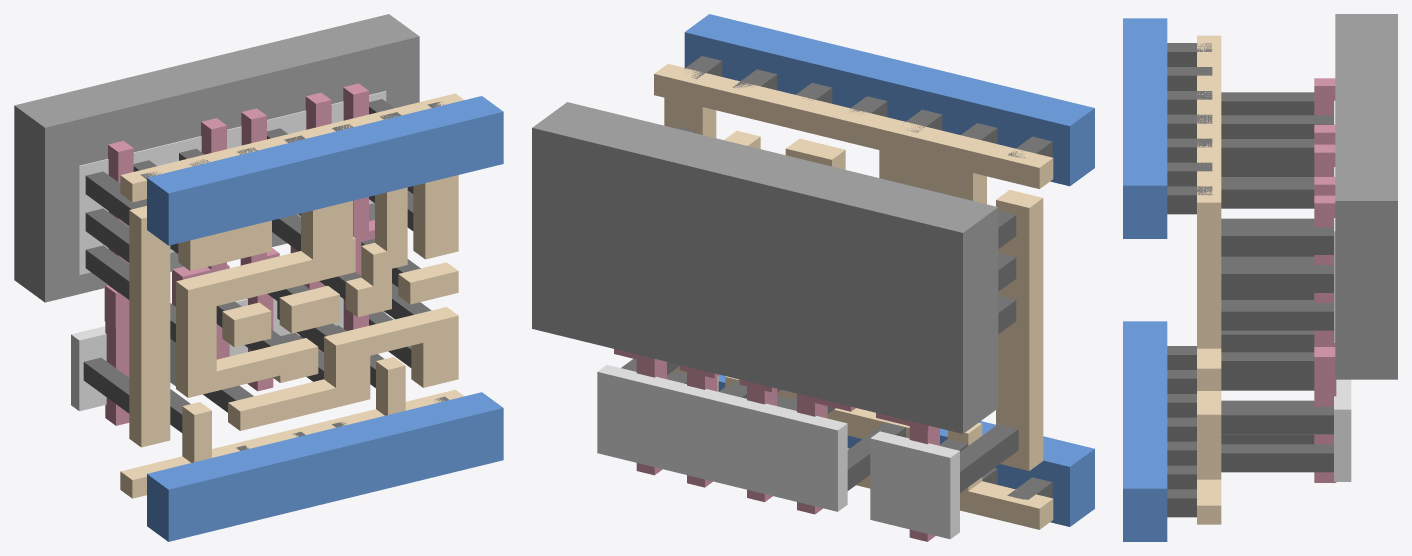
Rendered from sky130_fd_sc_hd__o22a_1.gds.gltf.
3 views of the same model, side by side, from view 1: azimuth 30°, elevation 25°; view 2: azimuth 150°, elevation 25°; view 3: azimuth 270°, elevation 25° (orthographic). The views are drawn at different scales.
Visible parts, largest first — view 1: sky130_fd_sc_hd__o22a_1_li1, sky130_fd_sc_hd__o22a_1_met1, sky130_fd_sc_hd__o22a_1_nwell, sky130_fd_sc_hd__o22a_1_licon, sky130_fd_sc_hd__o22a_1_poly, sky130_fd_sc_hd__o22a_1_diff, sky130_fd_sc_hd__o22a_1_mcon; view 2: sky130_fd_sc_hd__o22a_1_nwell, sky130_fd_sc_hd__o22a_1_li1, sky130_fd_sc_hd__o22a_1_diff, sky130_fd_sc_hd__o22a_1_met1, sky130_fd_sc_hd__o22a_1_licon, sky130_fd_sc_hd__o22a_1_mcon, sky130_fd_sc_hd__o22a_1_poly; view 3: sky130_fd_sc_hd__o22a_1_licon, sky130_fd_sc_hd__o22a_1_nwell, sky130_fd_sc_hd__o22a_1_met1, sky130_fd_sc_hd__o22a_1_li1, sky130_fd_sc_hd__o22a_1_mcon, sky130_fd_sc_hd__o22a_1_poly, sky130_fd_sc_hd__o22a_1_diff.
Part boxes in pixels (x1,y1,x2,y2): sky130_fd_sc_hd__o22a_1_li1: (120,93,463,498); sky130_fd_sc_hd__o22a_1_met1: (147,96,503,541); sky130_fd_sc_hd__o22a_1_nwell: (14,14,419,302); sky130_fd_sc_hd__o22a_1_licon: (83,99,431,432); sky130_fd_sc_hd__o22a_1_poly: (104,83,374,425); sky130_fd_sc_hd__o22a_1_diff: (71,91,386,411); sky130_fd_sc_hd__o22a_1_mcon: (140,102,448,450); sky130_fd_sc_hd__o22a_1_nwell: (532,102,998,433); sky130_fd_sc_hd__o22a_1_li1: (654,64,1053,529); sky130_fd_sc_hd__o22a_1_diff: (597,364,959,539); sky130_fd_sc_hd__o22a_1_met1: (684,14,1094,526); sky130_fd_sc_hd__o22a_1_licon: (621,126,1018,492); sky130_fd_sc_hd__o22a_1_mcon: (684,56,1052,499); sky130_fd_sc_hd__o22a_1_poly: (614,349,939,541); sky130_fd_sc_hd__o22a_1_licon: (1221,92,1333,472); sky130_fd_sc_hd__o22a_1_nwell: (1335,14,1397,379); sky130_fd_sc_hd__o22a_1_met1: (1123,18,1167,541); sky130_fd_sc_hd__o22a_1_li1: (1197,35,1221,524); sky130_fd_sc_hd__o22a_1_mcon: (1167,43,1212,517); sky130_fd_sc_hd__o22a_1_poly: (1314,78,1336,482); sky130_fd_sc_hd__o22a_1_diff: (1334,100,1351,481).
Size of the model in its own units: 3.6 by 3.2 by 2.24.
